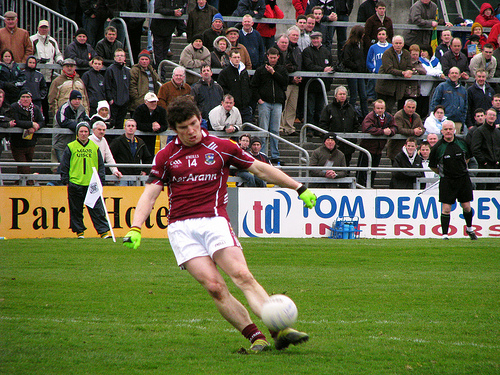ball: (260, 291, 299, 335)
player: (138, 87, 307, 347)
